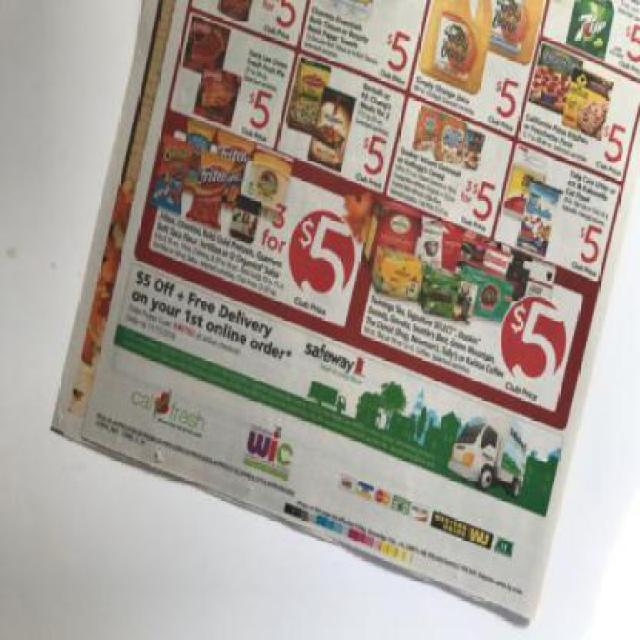PAPER: (49, 1, 638, 622)
